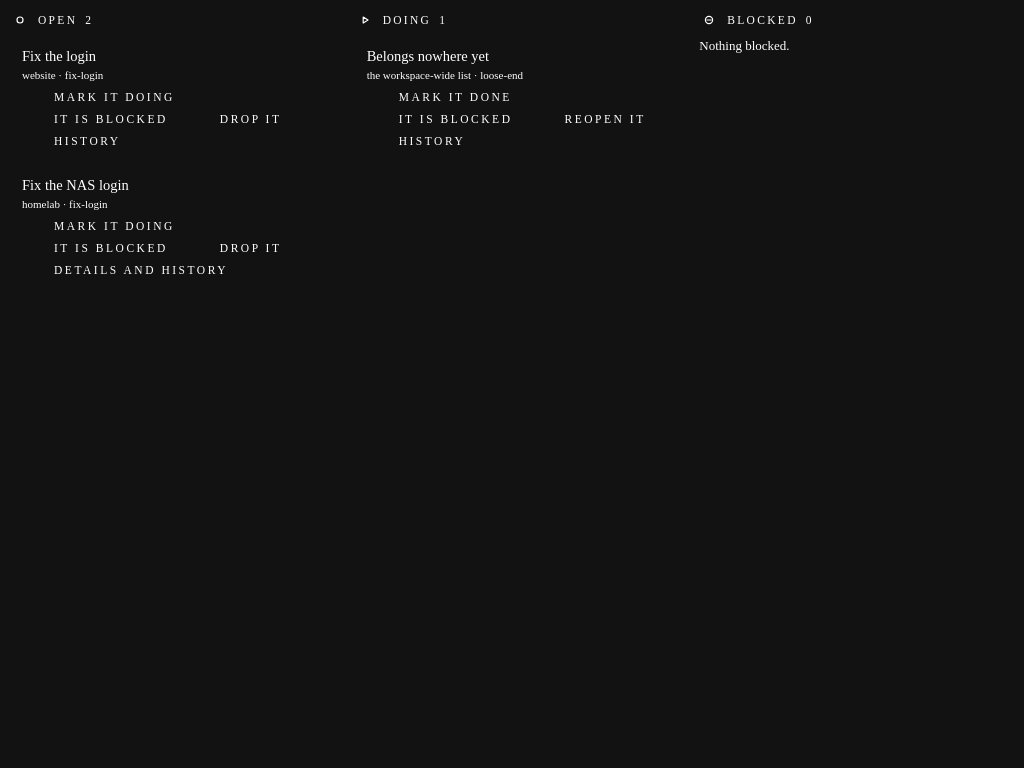
Test: One task in full › reads the task on its own list and shows its detail and history
Click the button "Details and history" at (127, 270), box [22,260,232,280]
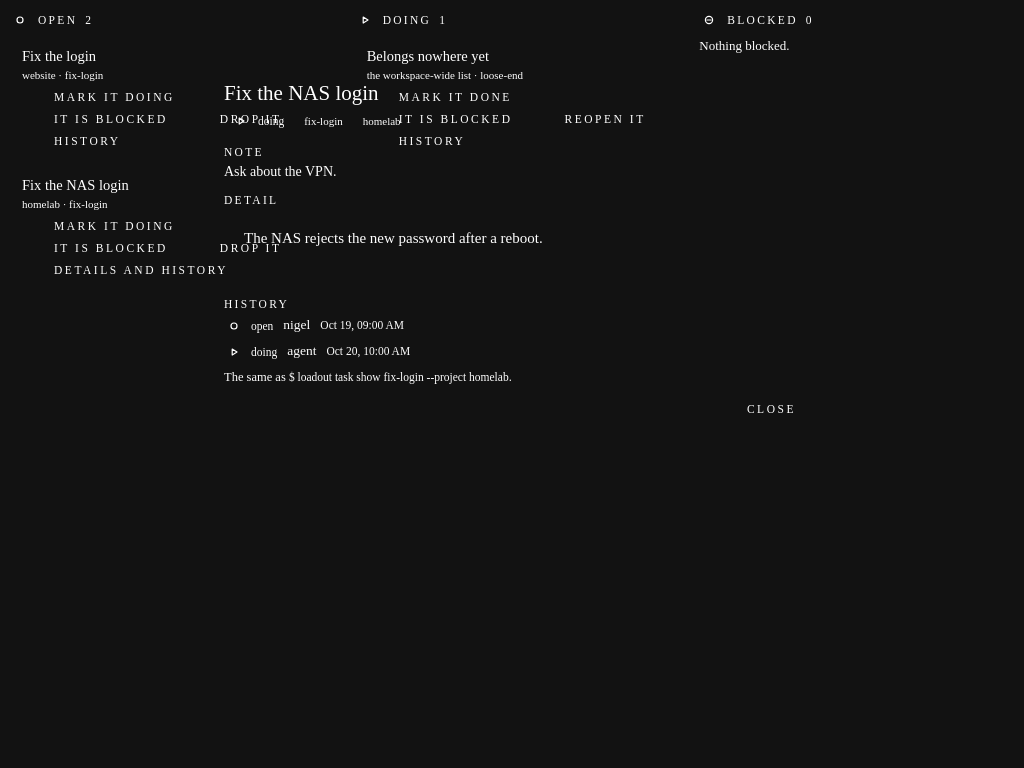
Expected: the text "The NAS rejects the new password after a reboot." is shown, [244,230,543,246]
Expected: the text "Ask about the VPN." is shown, [224,164,336,179]
